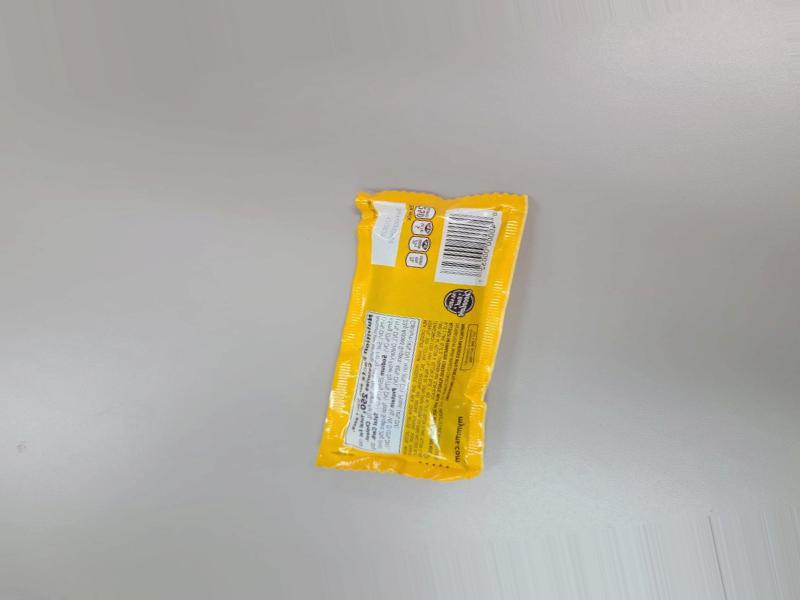m&m: (305, 193, 512, 456)
